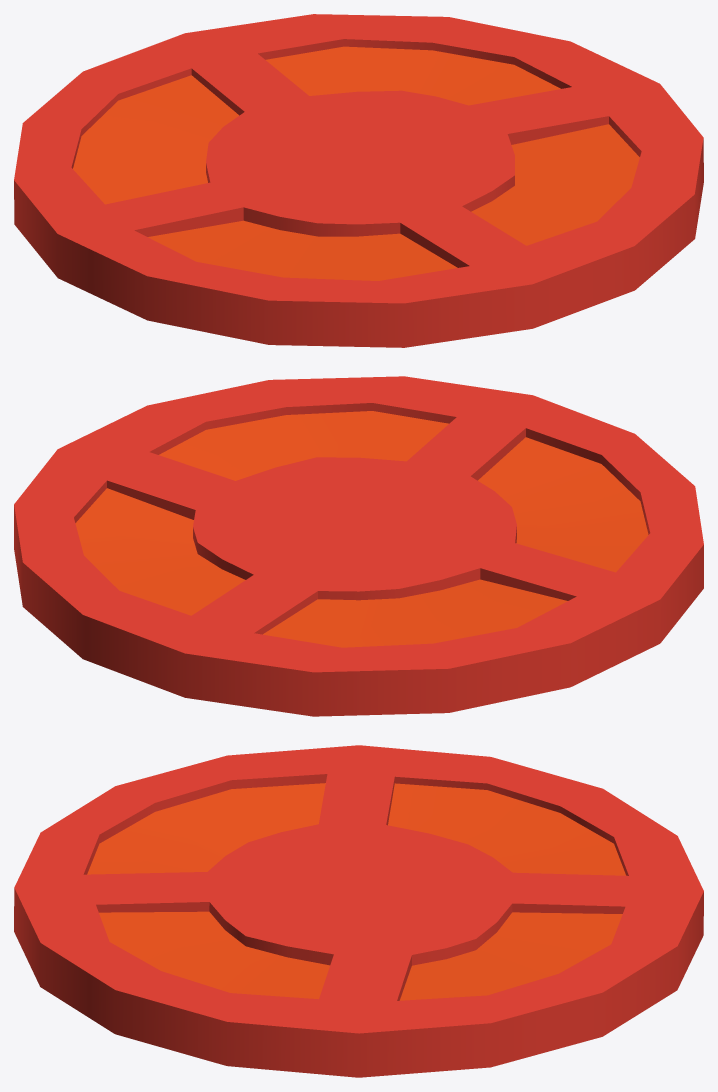
The model's file is Tomato.fbx.
3 views of the same model, one above another, from view 1: azimuth 30°, elevation 25°; view 2: azimuth 150°, elevation 25°; view 3: azimuth 270°, elevation 25° (orthographic).
Visible parts, largest first — view 1: Tomato; view 2: Tomato; view 3: Tomato.
Boxes of the visible parts, x1,y1,x2,y2 form: Tomato: (14,14,703,347); Tomato: (14,376,703,716); Tomato: (14,745,703,1077).
Size of the model in its own units: 1236 by 96.22 by 1236.
